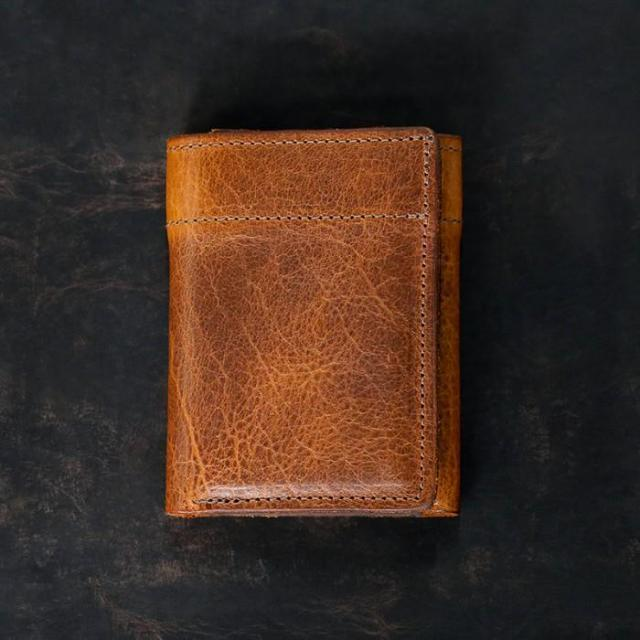wallet: (163, 130, 461, 518)
